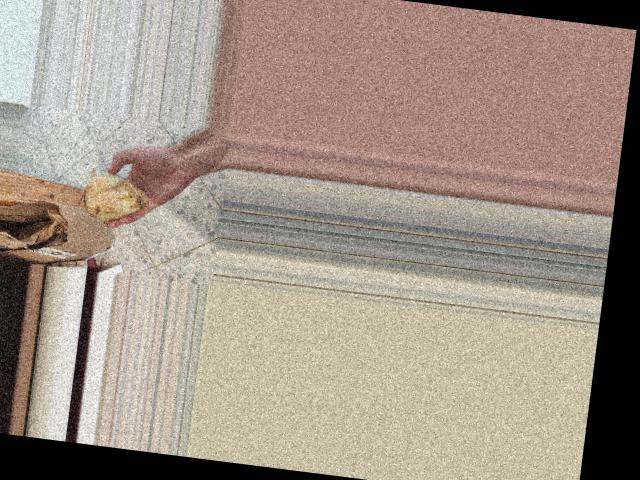onion: (75, 168, 154, 228)
